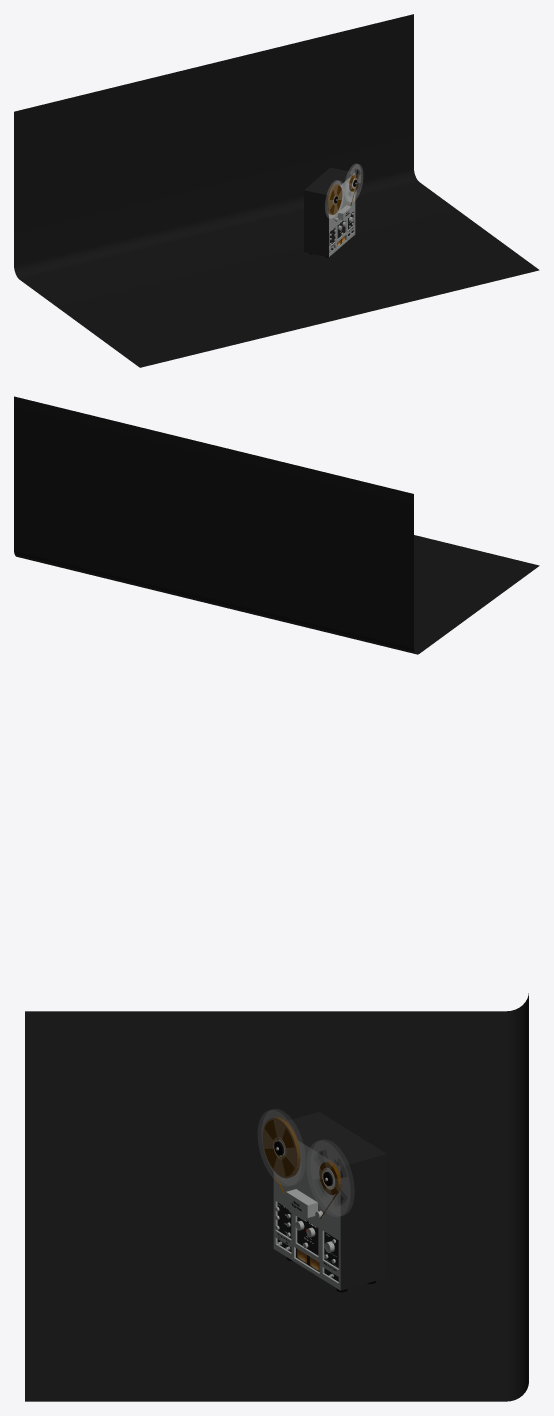
File: Stereo Reel to Reel Tape Deck.glb
3 views of the same model, one above another, from view 1: azimuth 30°, elevation 25°; view 2: azimuth 150°, elevation 25°; view 3: azimuth 270°, elevation 25° (orthographic). The views are drawn at different scales.
Parts seen in each view (by area): view 1: GroundPlane, Cabinet Tape Deck; view 2: GroundPlane; view 3: GroundPlane, Cabinet Tape Deck, Hub.002, Bottom Ring, Bottom Ring.001, Top Ring.001.
Boxes of the visible parts, x1=… form: GroundPlane: x1=14, y1=14, x2=539, y2=367; Cabinet Tape Deck: x1=304, y1=167, x2=355, y2=257; GroundPlane: x1=14, y1=396, x2=539, y2=654; GroundPlane: x1=25, y1=993, x2=528, y2=1401; Cabinet Tape Deck: x1=273, y1=1112, x2=386, y2=1290; Hub.002: x1=262, y1=1117, x2=300, y2=1178; Bottom Ring: x1=258, y1=1110, x2=301, y2=1186; Bottom Ring.001: x1=307, y1=1141, x2=350, y2=1216; Top Ring.001: x1=311, y1=1139, x2=354, y2=1215.
Bounding box in the file's own units: 4.15 × 1.62 × 2.26.
12 materials, 1 textured.
